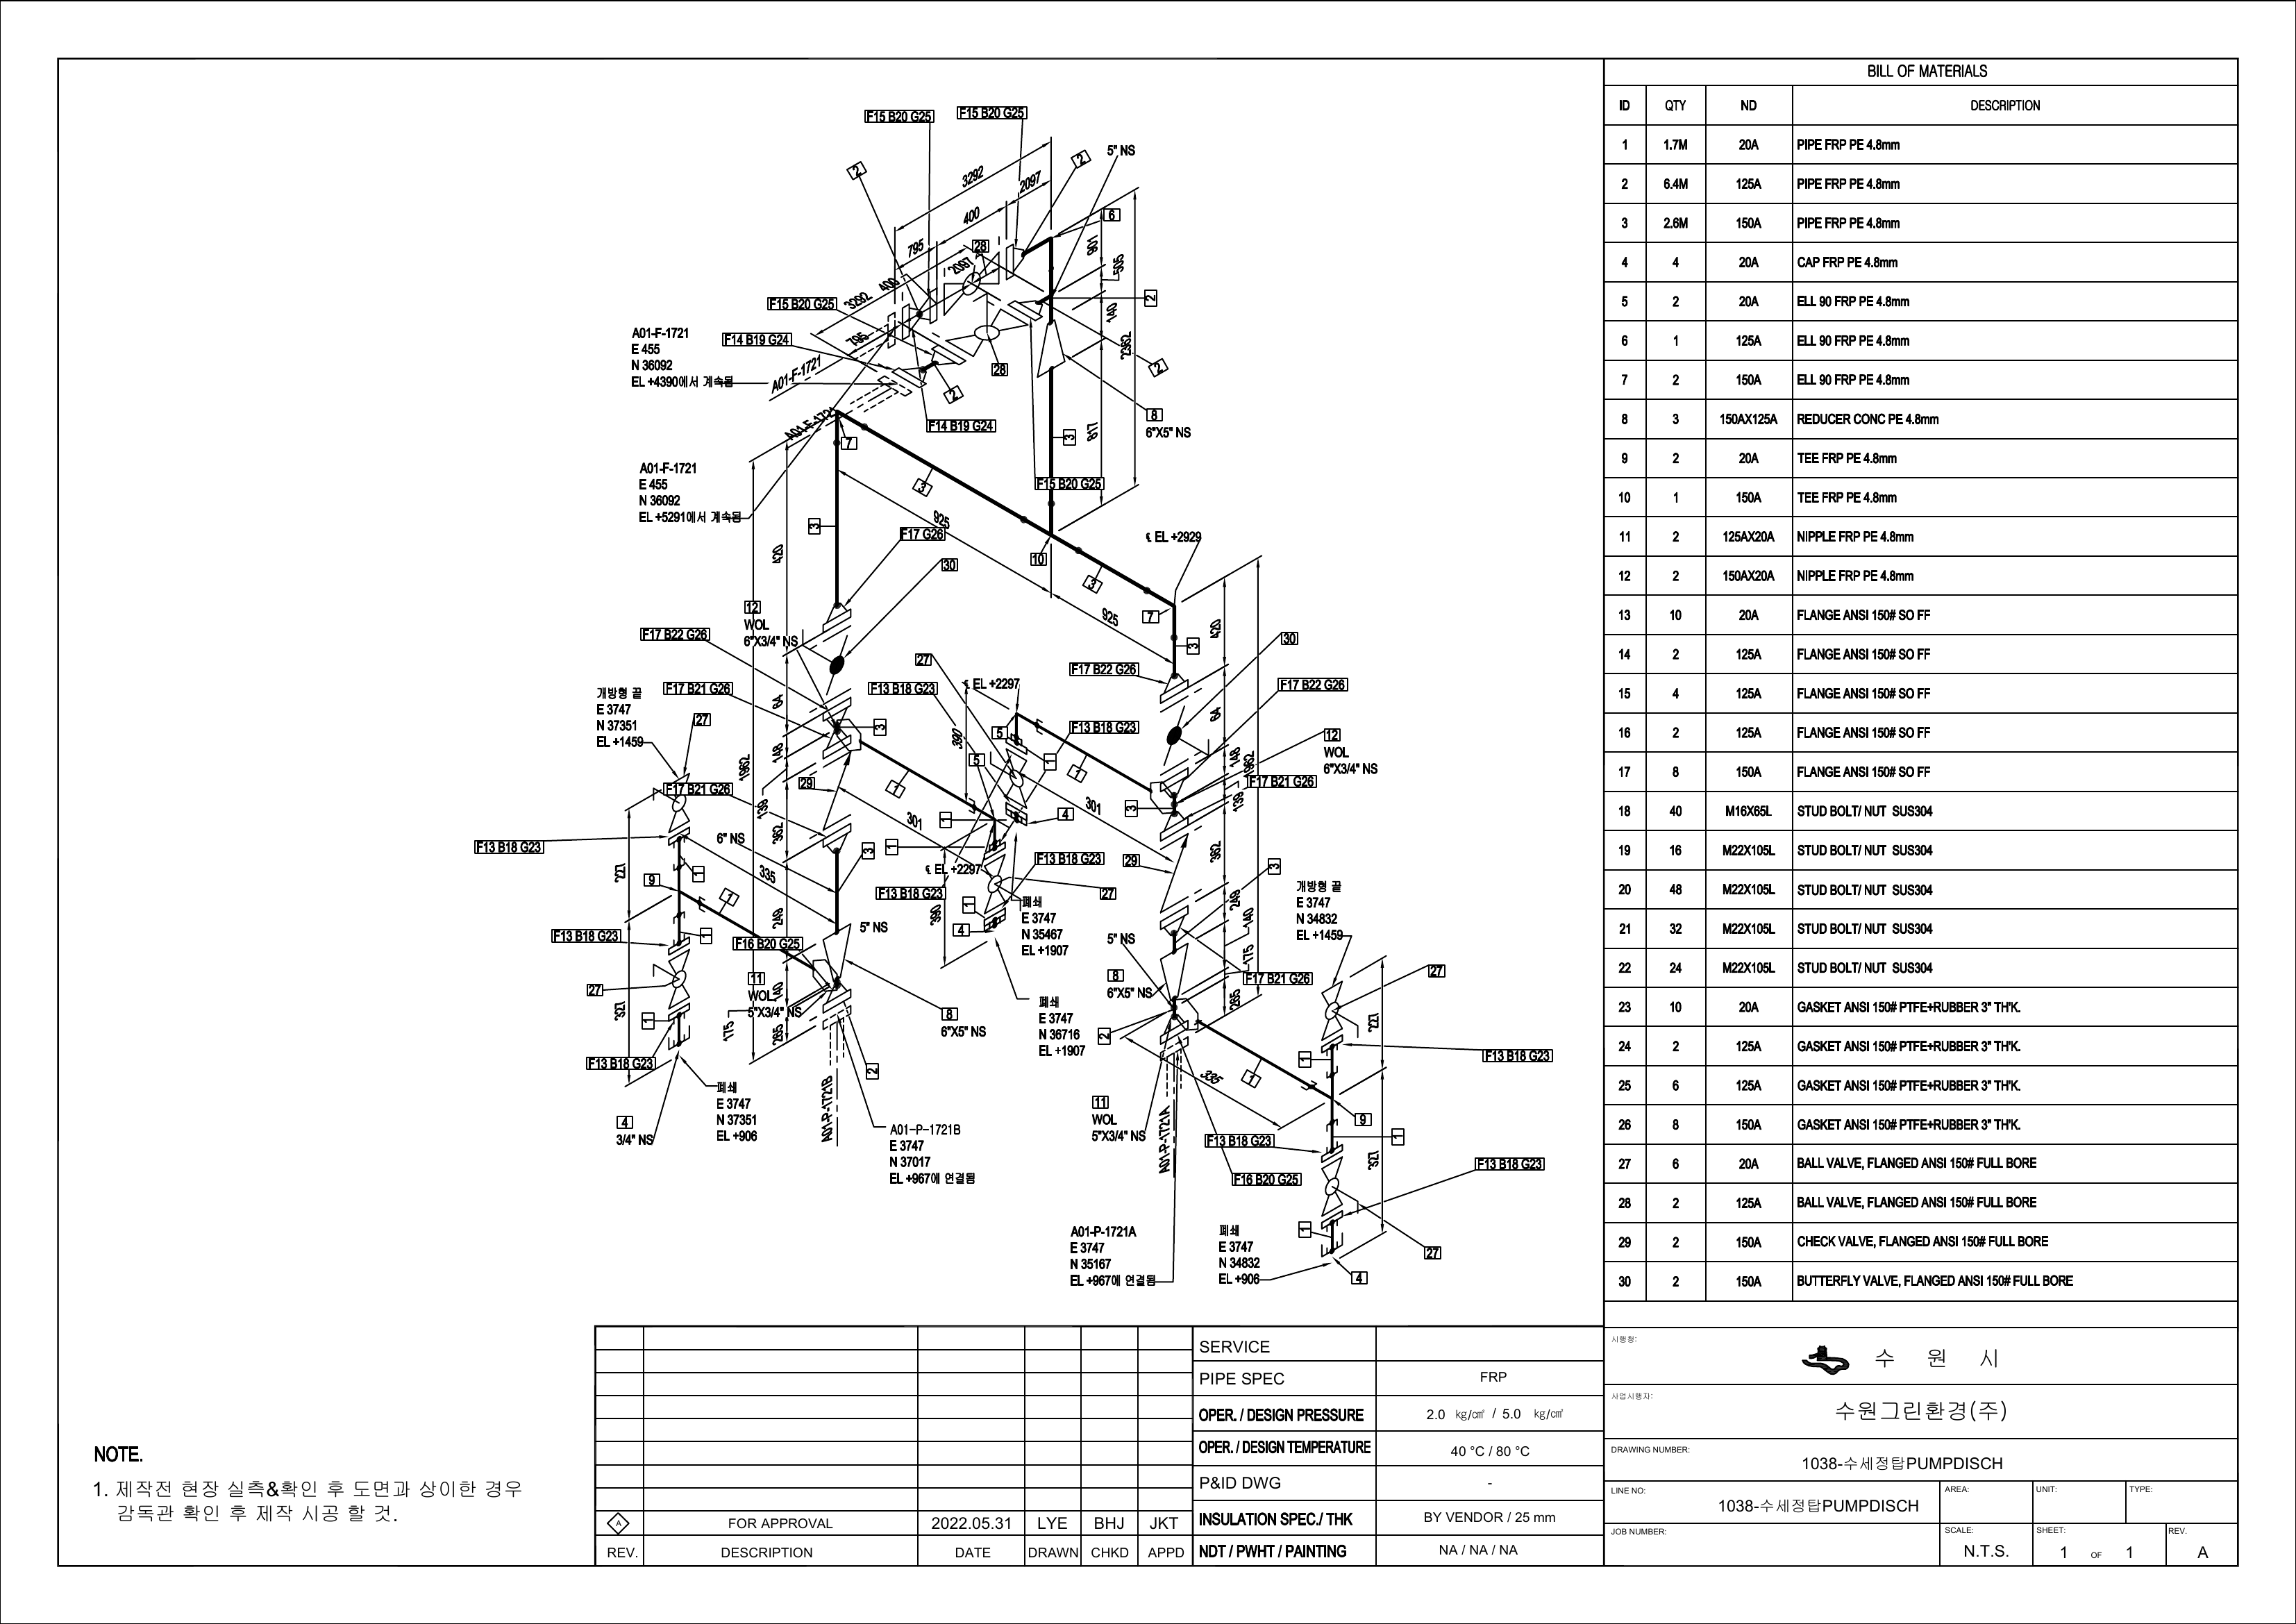table: (1597, 42, 2261, 1313)
